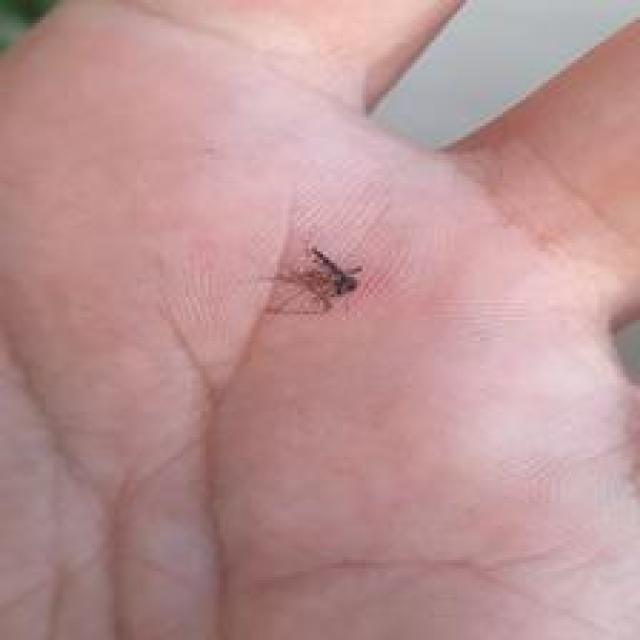Aedes albopictus: (250, 243, 364, 317)
